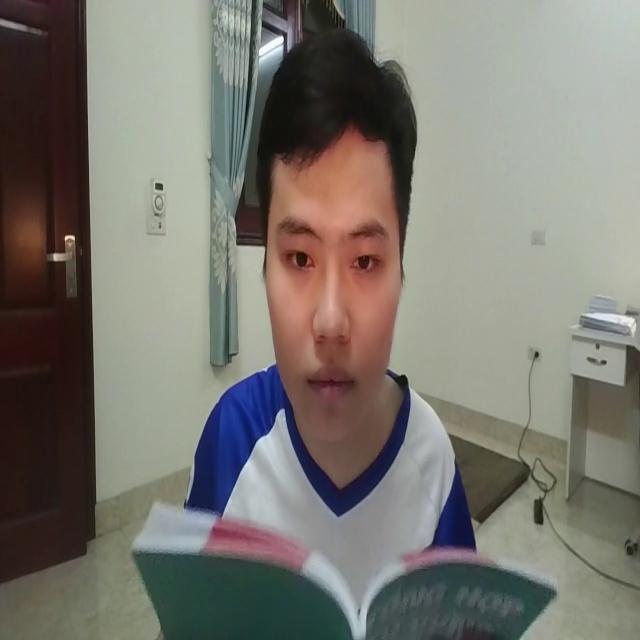book: (101, 468, 566, 640)
student: (151, 16, 490, 575)
